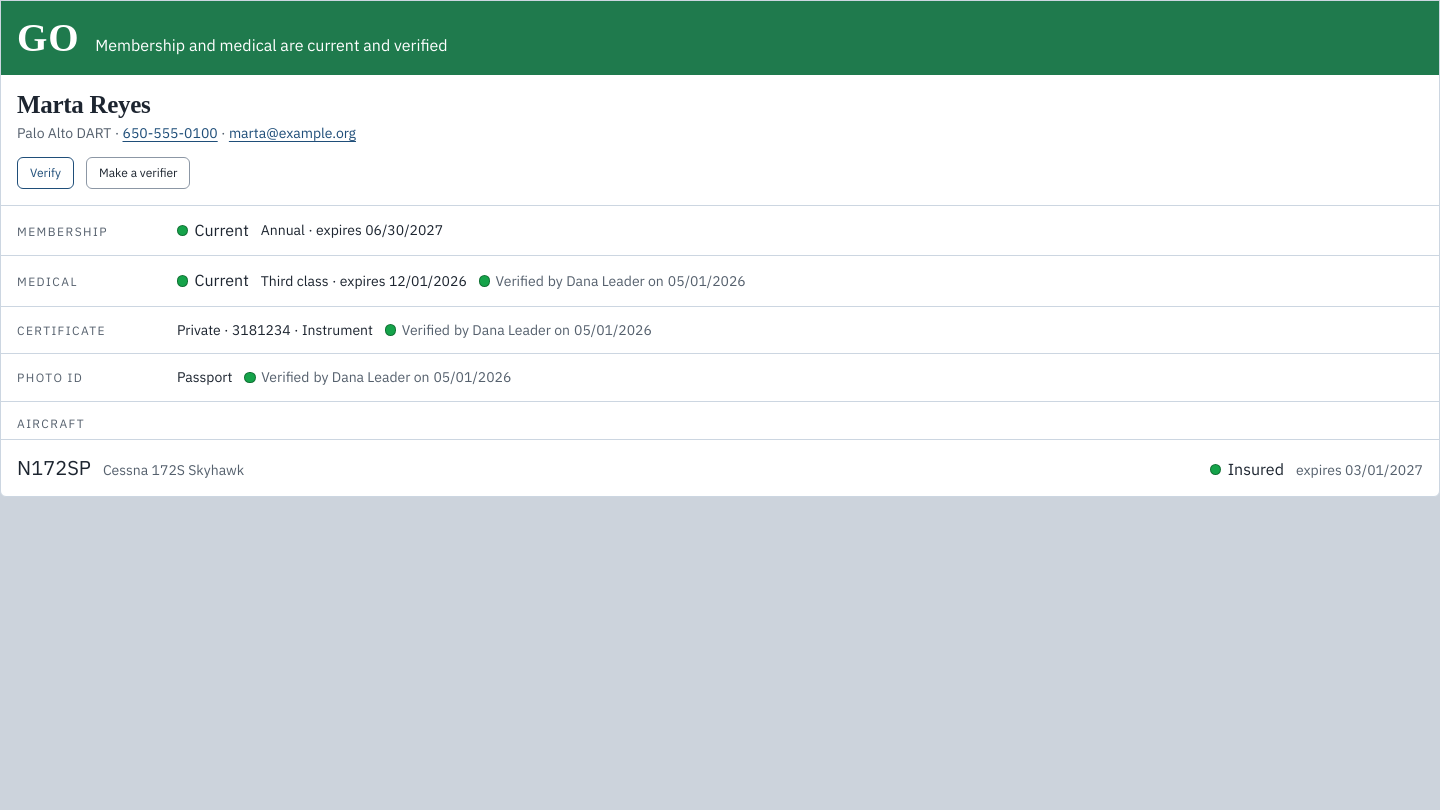
Scenario: MemberStatusCard verification › doesn't make anybody a verifier when the question is canceled
Expected: the heading "Marta Reyes" is shown, [17,91,150,118]
Click the button "Make a verifier" at {"x": 138, "y": 173}, box [86,157,190,189]
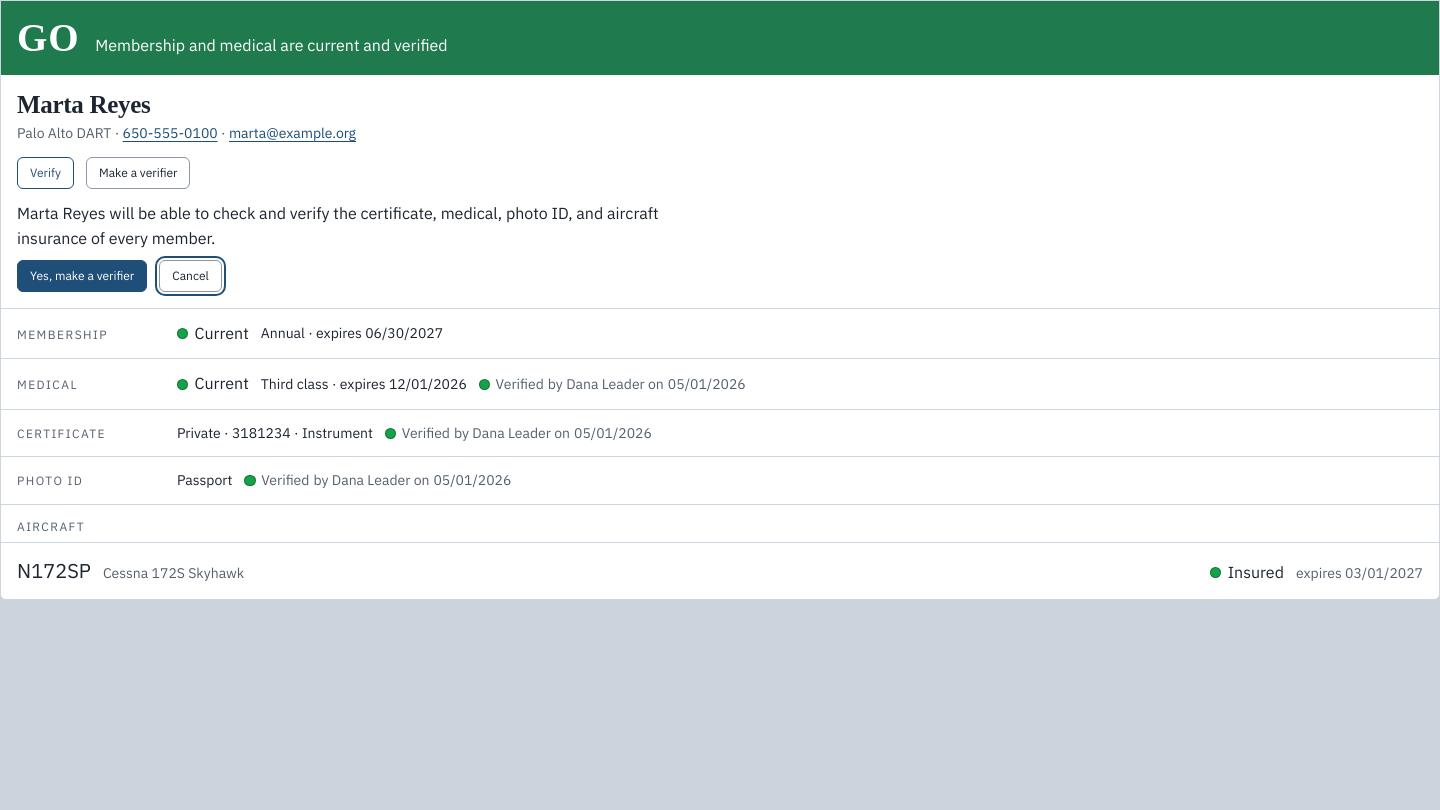
Press Enter
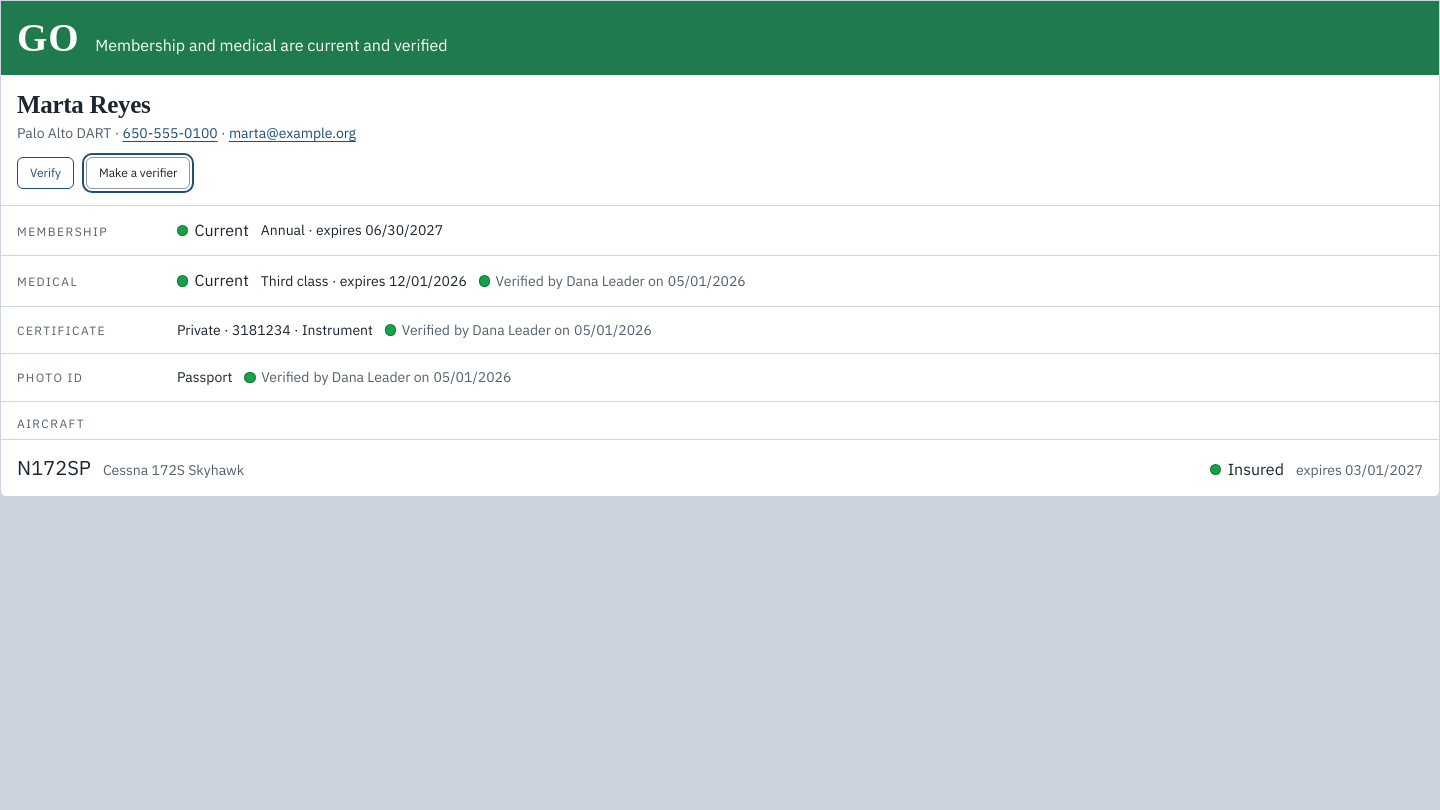
Expected: the button "Yes, make a verifier" is gone
